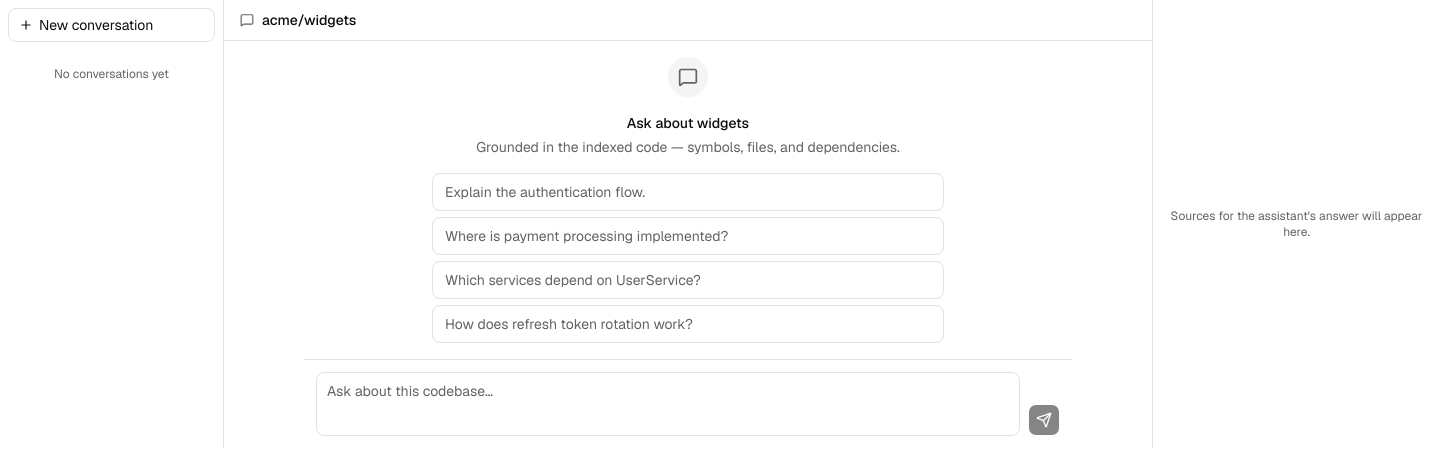
Test: ChatShell › streams an answer with citations and shows the send button disabled while it does
Type "How does authentication work?" into the text box with placeholder "Ask about this codebase…" at (668, 404), box [316,372,1020,436]
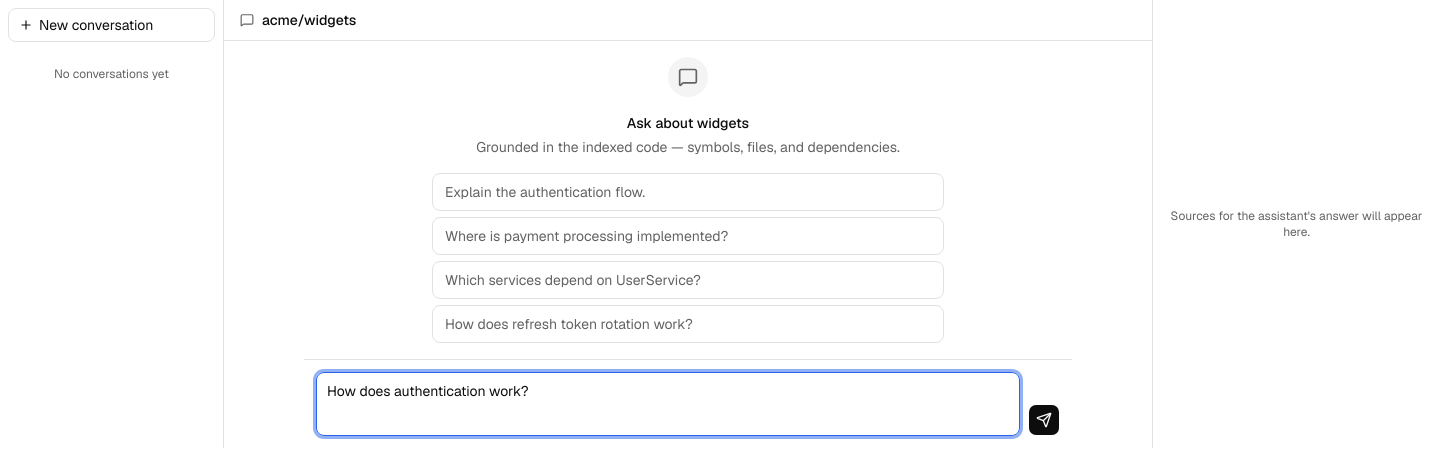
Click the button named "Send" at (1044, 420), box [1028,404,1060,436]
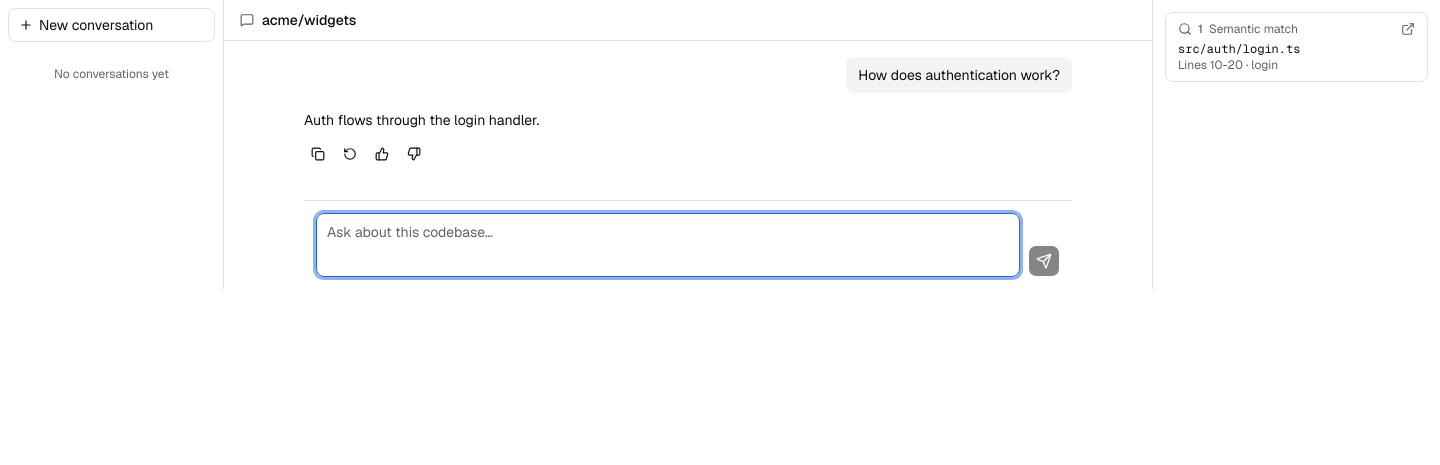
expect the text "How does authentication work?" is shown: met, box [846,57,1072,93]
expect the text "Auth flows through the login handler." is shown: met, box [304,111,539,129]
expect the text "src/auth/login.ts" is shown: met, box [1178,41,1300,57]
